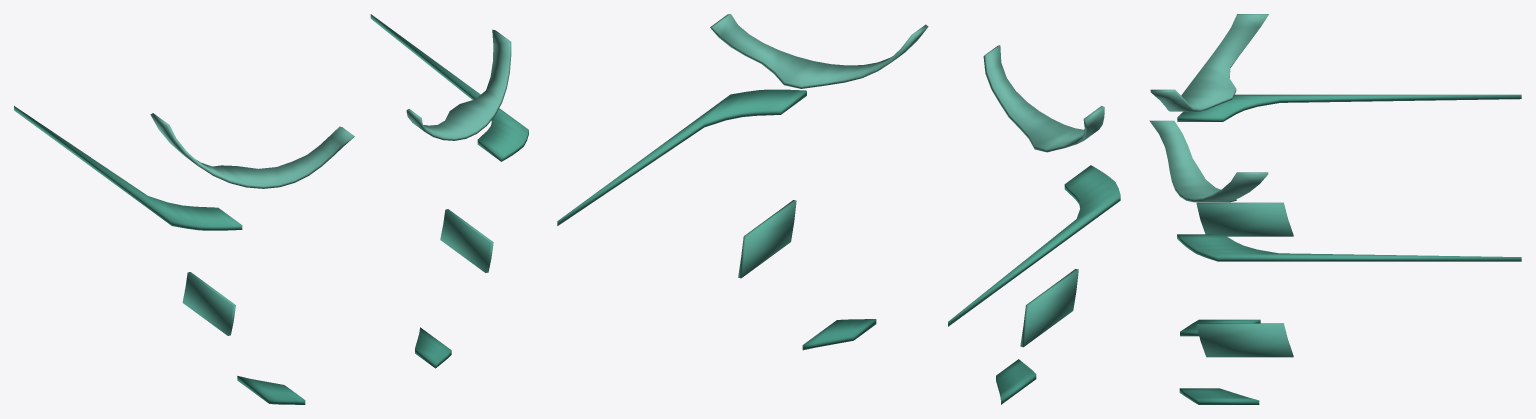
File: ligamen.glb
3 renders of one model, left to right at view 1: azimuth 30°, elevation 25°; view 2: azimuth 150°, elevation 25°; view 3: azimuth 270°, elevation 25°, orthographic. The views are drawn at different scales.
Visible parts, largest first — view 1: ligamen__ligamen-retensi-orbital-r, ligamen__ligamen-retensi-orbital-l, ligamen__ligamen-zigomatikokutan-r, ligamen__ligamen-zigomatikokutan-l, ligamen__ligamen-maseterik-l, ligamen__ligamen-maseterik-r, ligamen__ligamen-mandibula-r, ligamen__ligamen-mandibula-l; view 2: ligamen__ligamen-retensi-orbital-l, ligamen__ligamen-retensi-orbital-r, ligamen__ligamen-zigomatikokutan-l, ligamen__ligamen-zigomatikokutan-r, ligamen__ligamen-maseterik-l, ligamen__ligamen-maseterik-r, ligamen__ligamen-mandibula-l, ligamen__ligamen-mandibula-r; view 3: ligamen__ligamen-retensi-orbital-r, ligamen__ligamen-zigomatikokutan-l, ligamen__ligamen-retensi-orbital-l, ligamen__ligamen-zigomatikokutan-r, ligamen__ligamen-maseterik-l, ligamen__ligamen-maseterik-r, ligamen__ligamen-mandibula-l, ligamen__ligamen-mandibula-r.
Part boxes in pixels (box(x1,y1,x2,y2)): ligamen__ligamen-retensi-orbital-r: box(150, 113, 354, 188); ligamen__ligamen-retensi-orbital-l: box(406, 29, 511, 140); ligamen__ligamen-zigomatikokutan-r: box(14, 106, 242, 230); ligamen__ligamen-zigomatikokutan-l: box(370, 14, 528, 161); ligamen__ligamen-maseterik-l: box(440, 209, 493, 272); ligamen__ligamen-maseterik-r: box(182, 272, 235, 335); ligamen__ligamen-mandibula-r: box(237, 376, 305, 404); ligamen__ligamen-mandibula-l: box(415, 327, 451, 368); ligamen__ligamen-retensi-orbital-l: box(710, 14, 928, 88); ligamen__ligamen-retensi-orbital-r: box(983, 45, 1104, 152); ligamen__ligamen-zigomatikokutan-l: box(557, 89, 806, 225); ligamen__ligamen-zigomatikokutan-r: box(948, 165, 1120, 326); ligamen__ligamen-maseterik-l: box(738, 200, 796, 278); ligamen__ligamen-maseterik-r: box(1020, 269, 1078, 347); ligamen__ligamen-mandibula-l: box(802, 319, 876, 350); ligamen__ligamen-mandibula-r: box(996, 359, 1036, 404); ligamen__ligamen-retensi-orbital-r: box(1150, 14, 1268, 111); ligamen__ligamen-zigomatikokutan-l: box(1177, 234, 1521, 261); ligamen__ligamen-retensi-orbital-l: box(1149, 120, 1268, 202); ligamen__ligamen-zigomatikokutan-r: box(1177, 94, 1521, 121); ligamen__ligamen-maseterik-l: box(1196, 323, 1293, 357); ligamen__ligamen-maseterik-r: box(1196, 202, 1293, 236); ligamen__ligamen-mandibula-l: box(1179, 388, 1259, 404); ligamen__ligamen-mandibula-r: box(1180, 319, 1260, 336).
Bounding box in the file's own units: 10.97 × 8.37 × 10.33.
